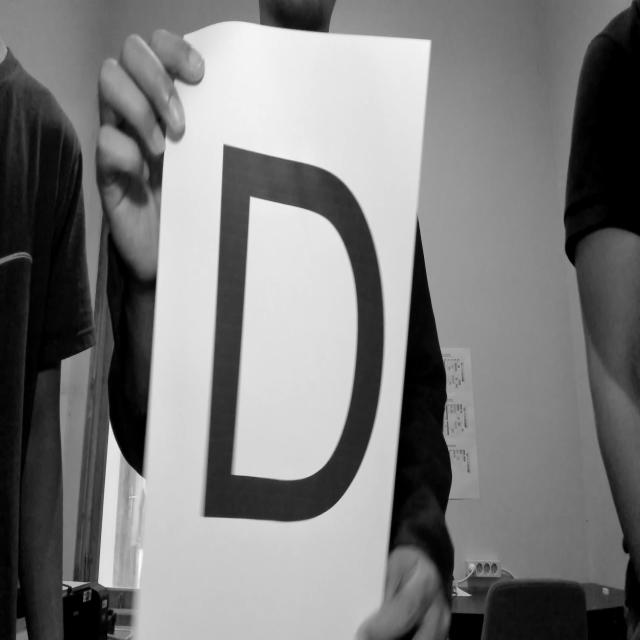d: (194, 123, 388, 542)
